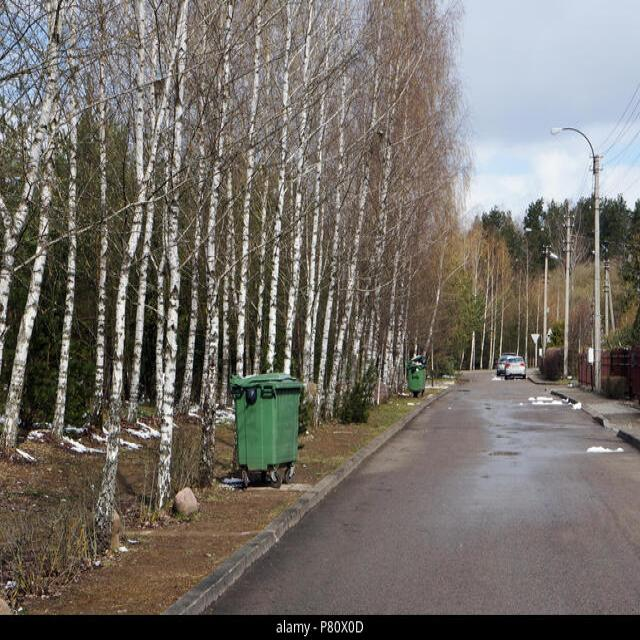trash: (238, 376, 301, 470)
